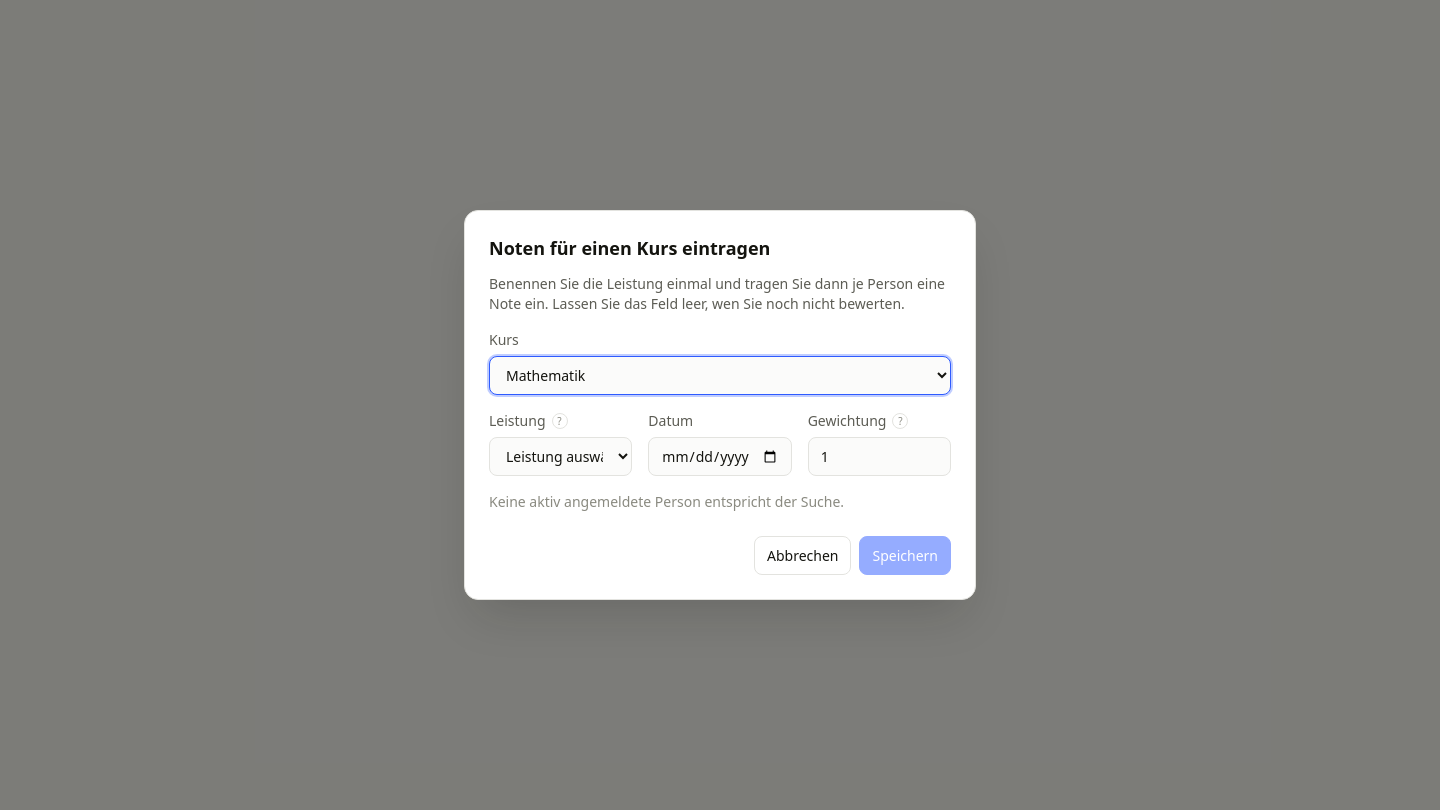
Scenario: BulkGrades assessment scheme › derives a localized editable weight and resets the assessment when the course changes
This screenshot has width=1440, height=810.
Select "Zwischenprüfung" in the dropdown labelled "Leistung": (561,456) [489, 437, 632, 476]
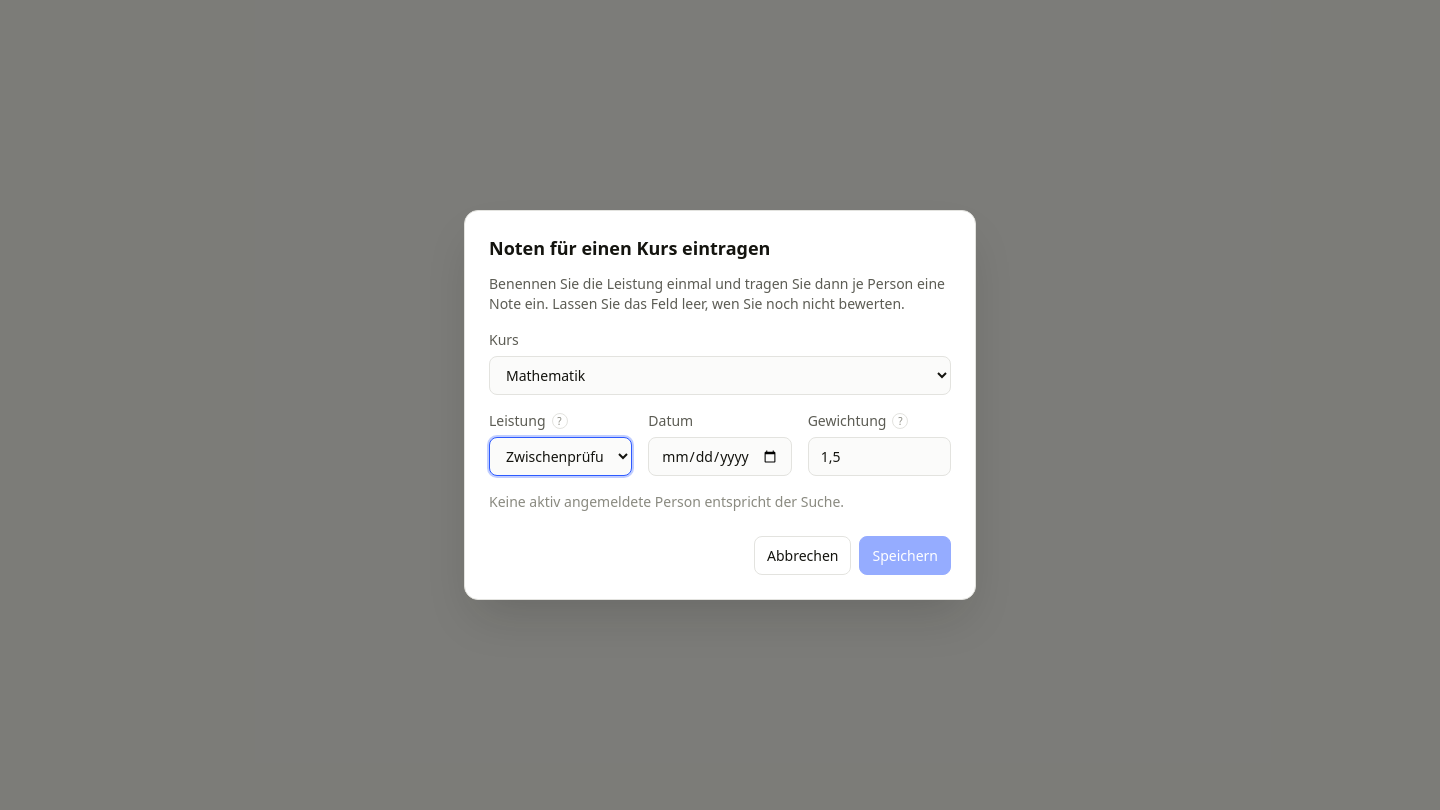
Expected: the field labelled "Gewichtung" holds "1,5"
Replace the text in the field labelled "Gewichtung" with "2,25": (879,456) [808, 437, 951, 476]
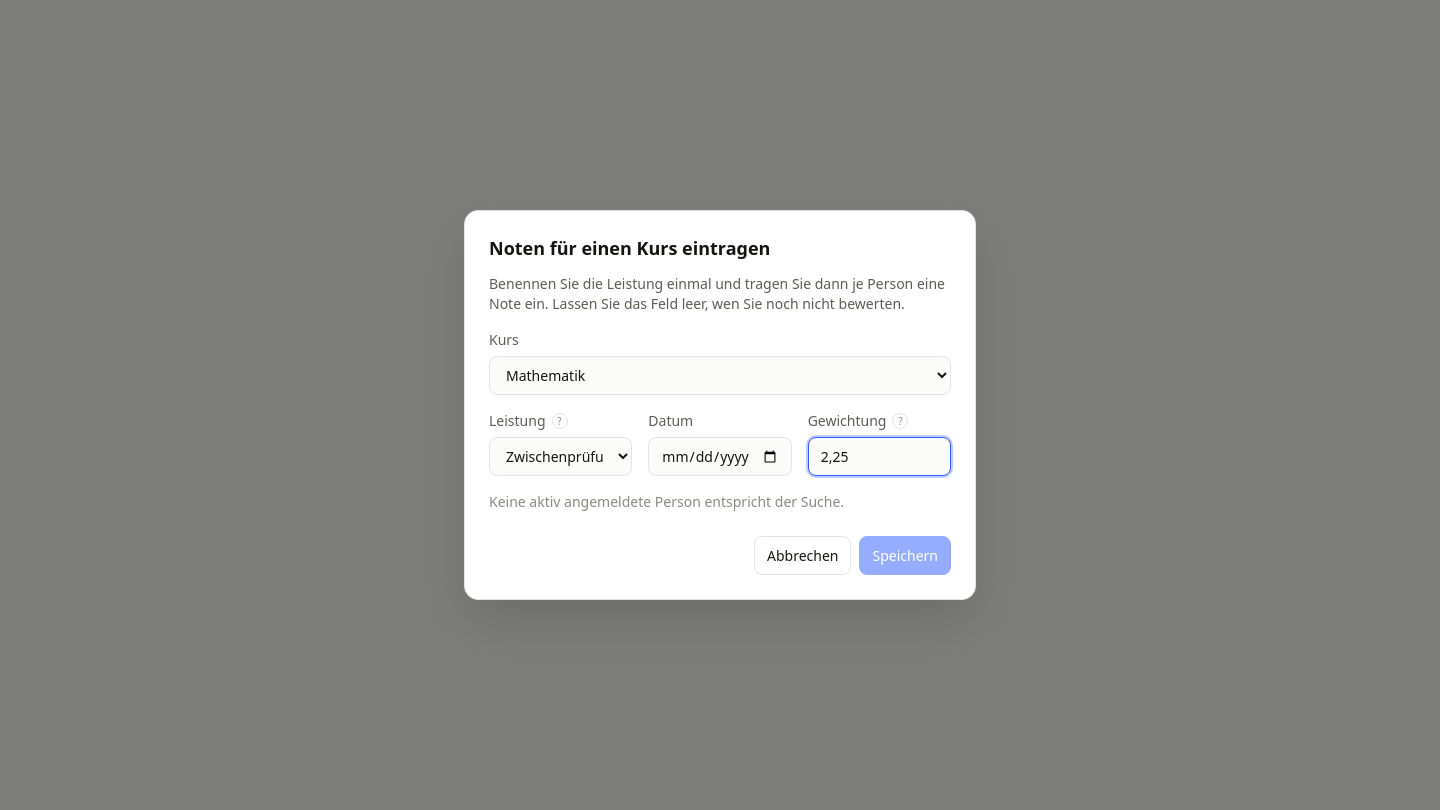
Select "Geschichte" in the dropdown labelled "Kurs": (720,376) [489, 356, 951, 395]
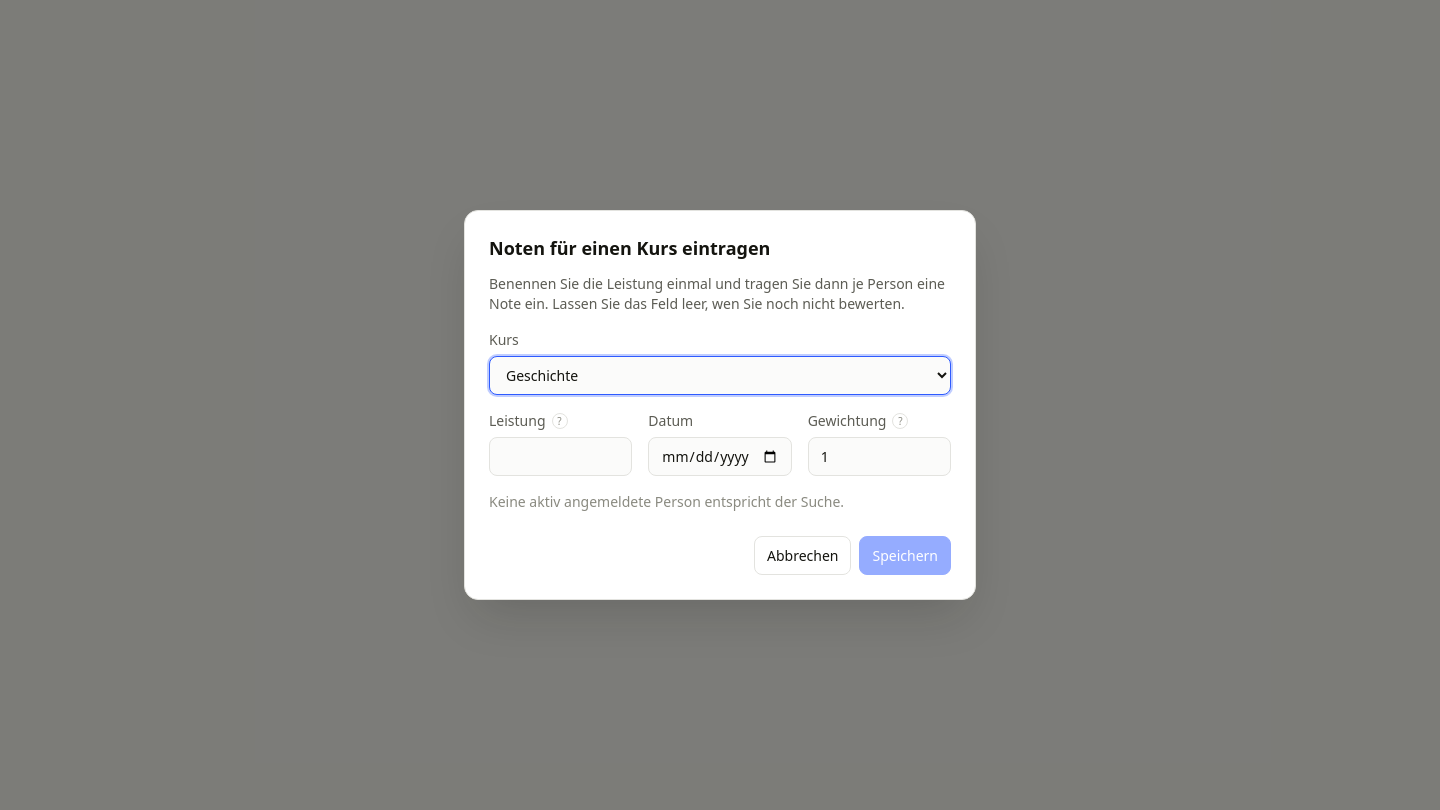
Expected: the field labelled "Leistung" is empty, [489, 437, 632, 476]
Select "Mathematik" in the dropdown labelled "Kurs": (720,376) [489, 356, 951, 395]
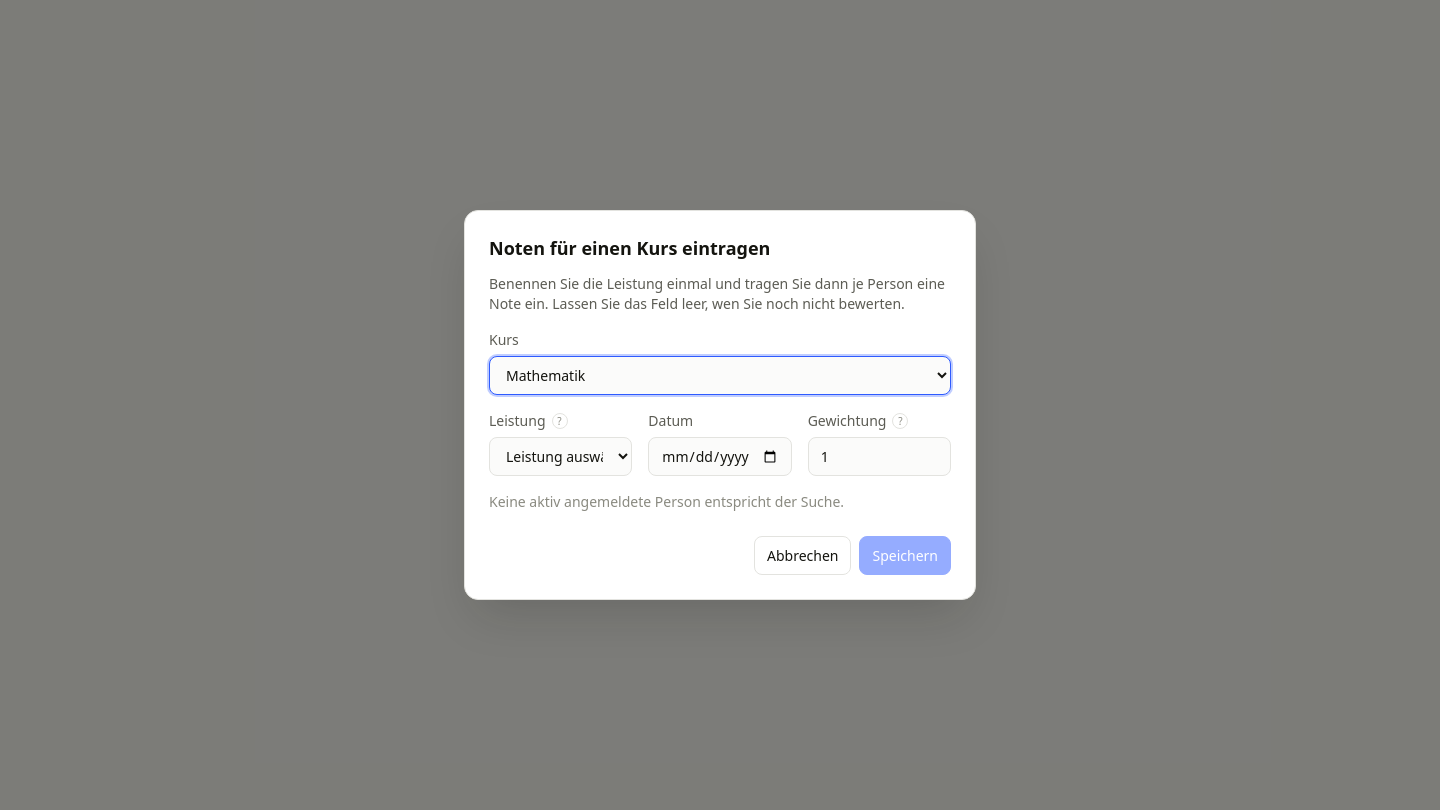
Expected: the field labelled "Gewichtung" holds "1", [808, 437, 951, 476]
Expected: the dropdown labelled "Leistung" shows "Leistung auswählen", [489, 437, 632, 476]
